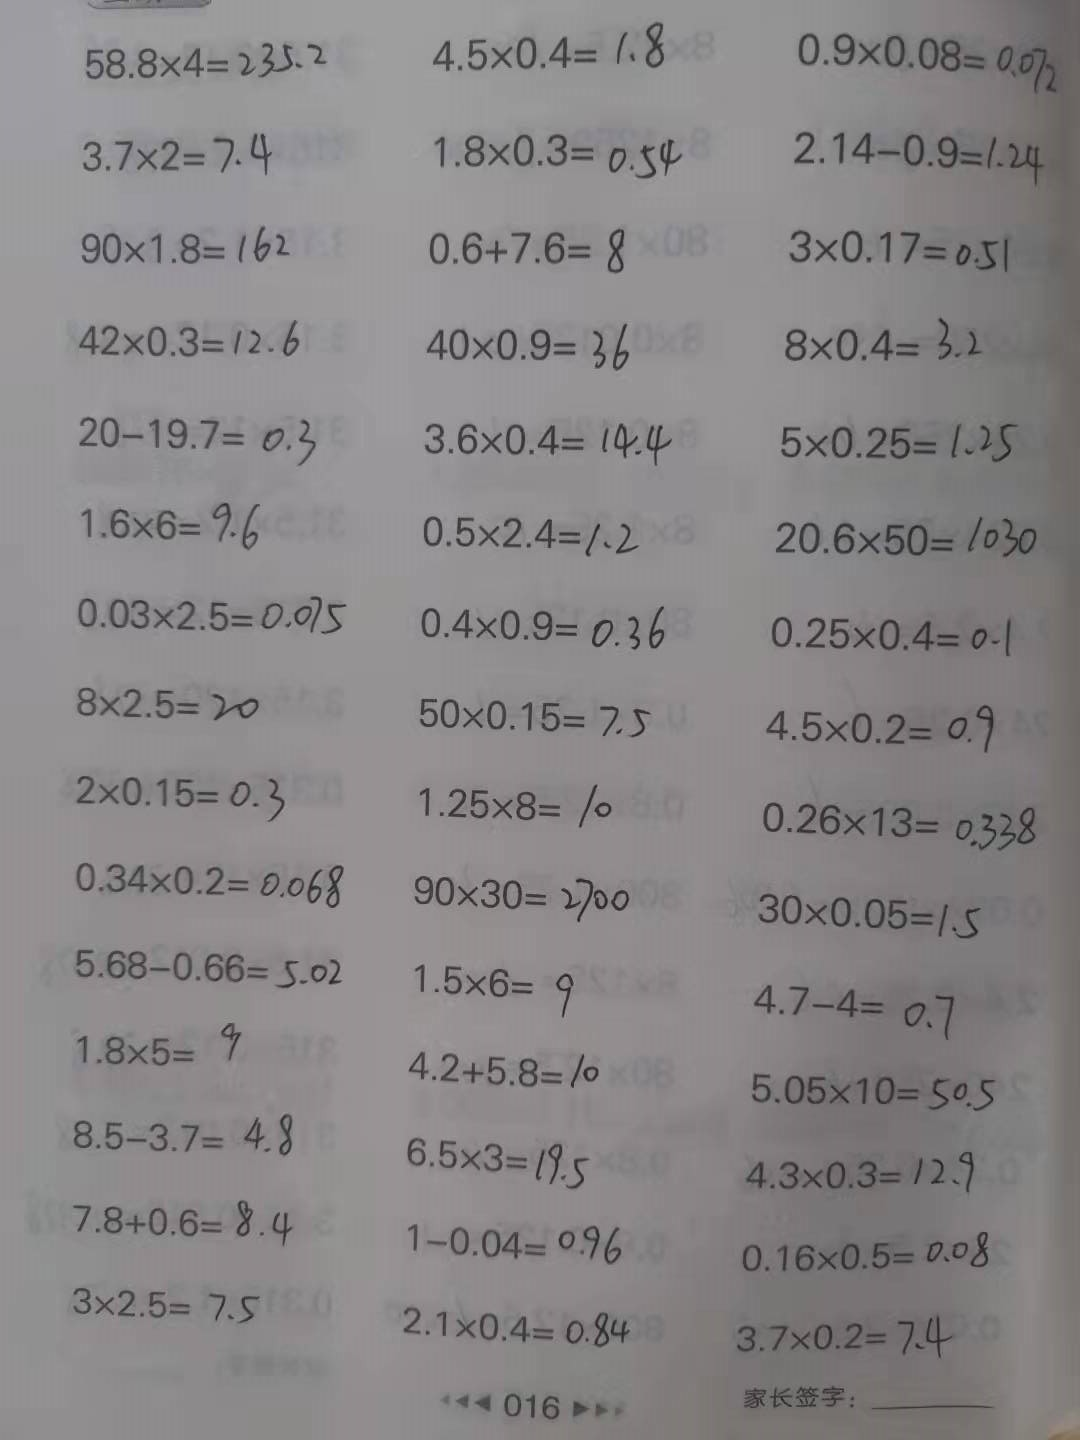equation: (790, 22, 1070, 105), (756, 787, 1046, 861), (427, 11, 680, 90), (389, 1285, 646, 1362), (64, 852, 358, 917), (422, 124, 686, 194), (68, 582, 364, 644), (751, 697, 1007, 769), (781, 124, 1049, 189), (777, 214, 1018, 286), (752, 880, 993, 951), (66, 407, 329, 472), (60, 938, 347, 997), (59, 1106, 307, 1174), (753, 602, 1026, 663), (411, 598, 682, 659), (762, 415, 1032, 476), (729, 1225, 999, 1286), (417, 501, 647, 573), (745, 968, 967, 1042), (740, 1065, 1001, 1127), (71, 313, 319, 379), (410, 686, 675, 747), (398, 869, 643, 933), (71, 27, 335, 87), (393, 945, 607, 1018), (763, 508, 1046, 564), (400, 413, 677, 469), (391, 1123, 598, 1198), (64, 768, 306, 831), (734, 1144, 982, 1205), (413, 214, 650, 277), (727, 1308, 980, 1365), (71, 492, 277, 561), (57, 1198, 307, 1253), (413, 317, 644, 376), (779, 308, 1001, 369), (59, 1009, 247, 1079), (400, 1208, 635, 1263), (74, 124, 282, 186), (59, 1277, 279, 1336), (65, 681, 282, 740), (406, 777, 623, 831), (69, 222, 299, 273), (396, 1040, 608, 1094)
